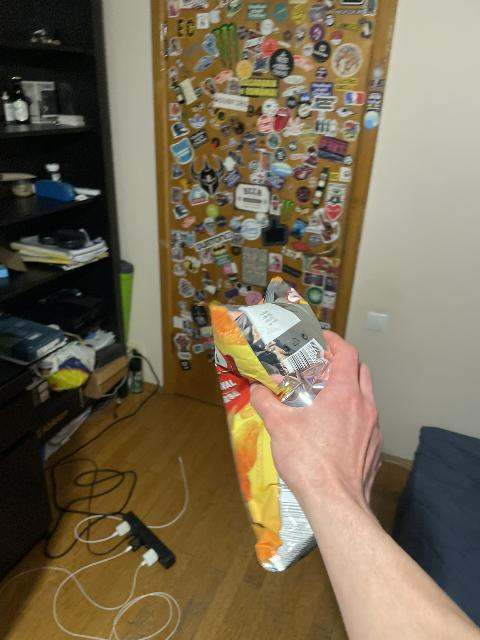Chio Cascaval 125g: (201, 278, 322, 573)
